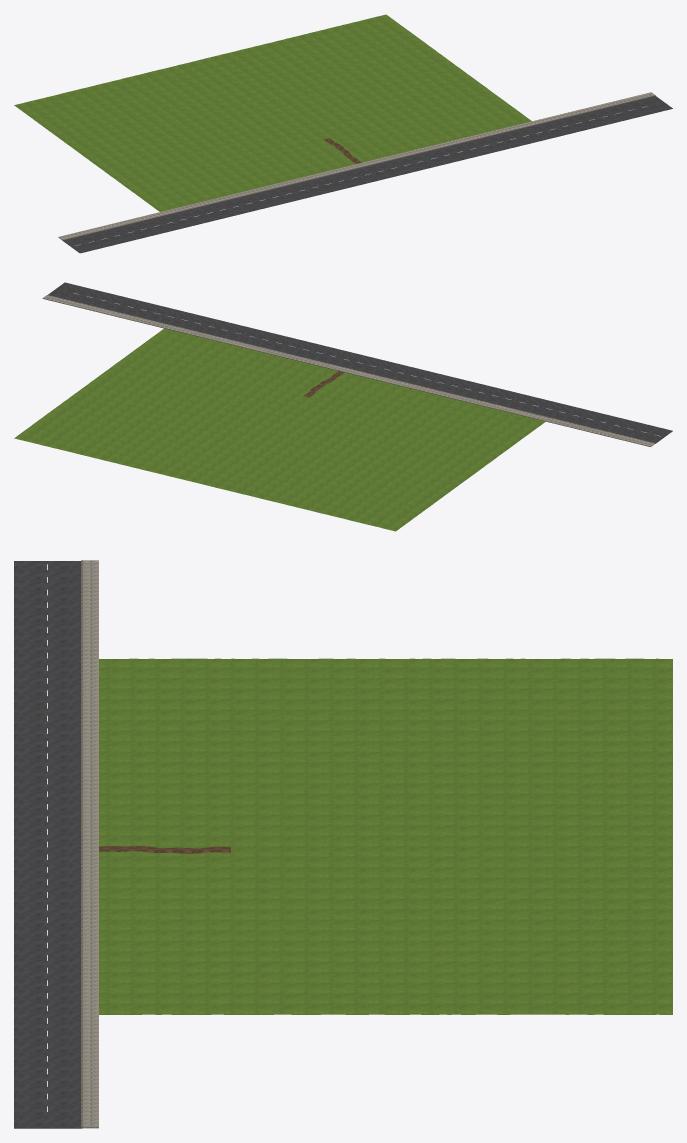
Rendered from parcela.gltf.
The picture shows the model from 3 angles, top to bottom: view 1: azimuth 30°, elevation 25°; view 2: azimuth 150°, elevation 25°; view 3: azimuth 270°, elevation 25°; orthographic projection. The views are drawn at different scales.
Visible parts, largest first — view 1: parcela; view 2: parcela; view 3: parcela.
Part boxes in pixels (bbox=[...]): parcela: bbox=[14, 14, 672, 253]; parcela: bbox=[14, 282, 672, 531]; parcela: bbox=[14, 560, 672, 1128].
Bounding box in the file's own units: 180 × 0.23 × 88.4.
6 materials, 6 textured.
